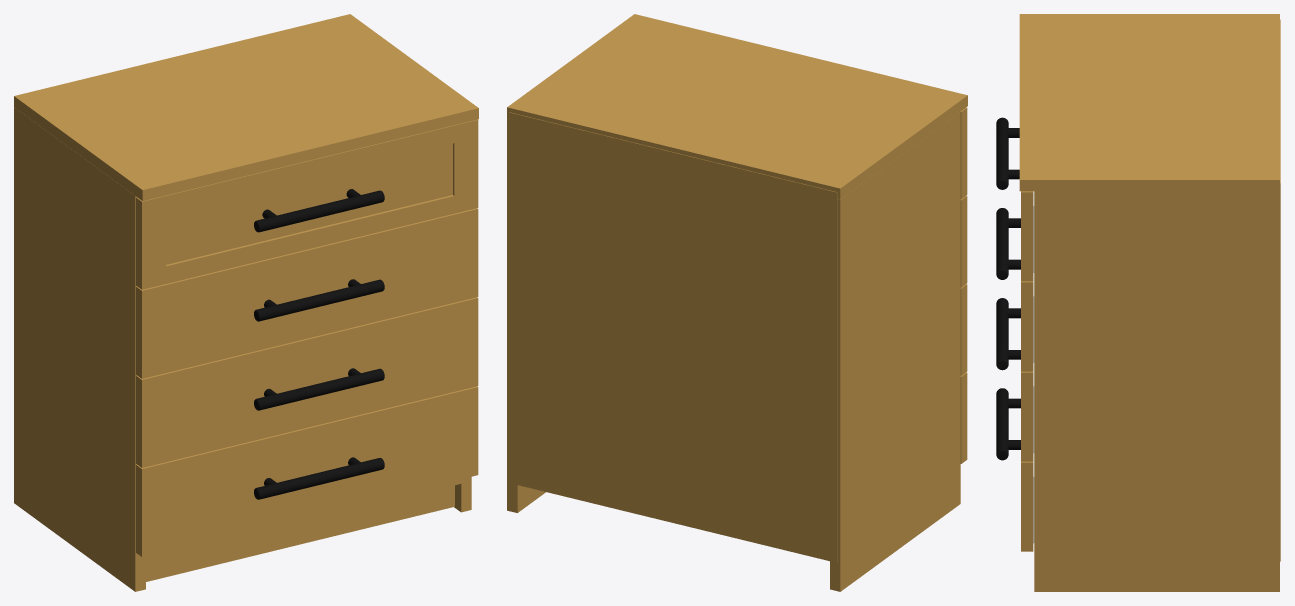
Rendered from drawers-c4d.fbx.
The picture shows the model from 3 angles, left to right: view 1: azimuth 30°, elevation 25°; view 2: azimuth 150°, elevation 25°; view 3: azimuth 270°, elevation 25°; orthographic projection. The views are drawn at different scales.
Visible parts, largest first — view 1: side_panel_left, top, drawer_front_3, drawer_front_4, drawer_front_2, drawer_front, drawer_front_glass, bottom_bar, handle, handle_2, handle_3, handle_4 (+1 smaller); view 2: back, side_panel_left, top, side_panel_right, drawer_front_2, drawer_front_3, drawer_front_4, drawer_front; view 3: side_panel_right, top, drawer_front_2, drawer_front, drawer_front_3, drawer_front_4, handle, handle_2, handle_3, handle_4, back.
Boxes of the visible parts, x1,y1,x2,y2 form: side_panel_left: (14,107,145,591); top: (14,14,478,200); drawer_front_3: (136,297,478,467); drawer_front_4: (136,386,478,556); drawer_front_2: (136,208,478,378); drawer_front: (136,119,478,289); drawer_front_glass: (166,143,452,264); bottom_bar: (146,485,454,581); handle: (254,190,384,232); handle_2: (254,279,384,321); handle_3: (254,368,384,410); handle_4: (254,458,384,499); back: (509,112,837,562); side_panel_left: (830,112,960,591); top: (507,14,967,199); side_panel_right: (507,118,545,512); drawer_front_2: (960,196,967,287); drawer_front_3: (960,284,967,375); drawer_front_4: (960,372,967,463); drawer_front: (960,107,967,198); side_panel_right: (1034,191,1279,591); top: (1019,14,1279,191); drawer_front_2: (1021,281,1033,371); drawer_front: (1021,191,1033,281); drawer_front_3: (1021,371,1033,461); drawer_front_4: (1021,461,1033,551); handle: (996,117,1008,189); handle_2: (996,208,1008,279); handle_3: (996,298,1008,370); handle_4: (996,388,1008,460); back: (1280,19,1280,561).
Bounding box in the file's own units: 320 × 370 × 232.
